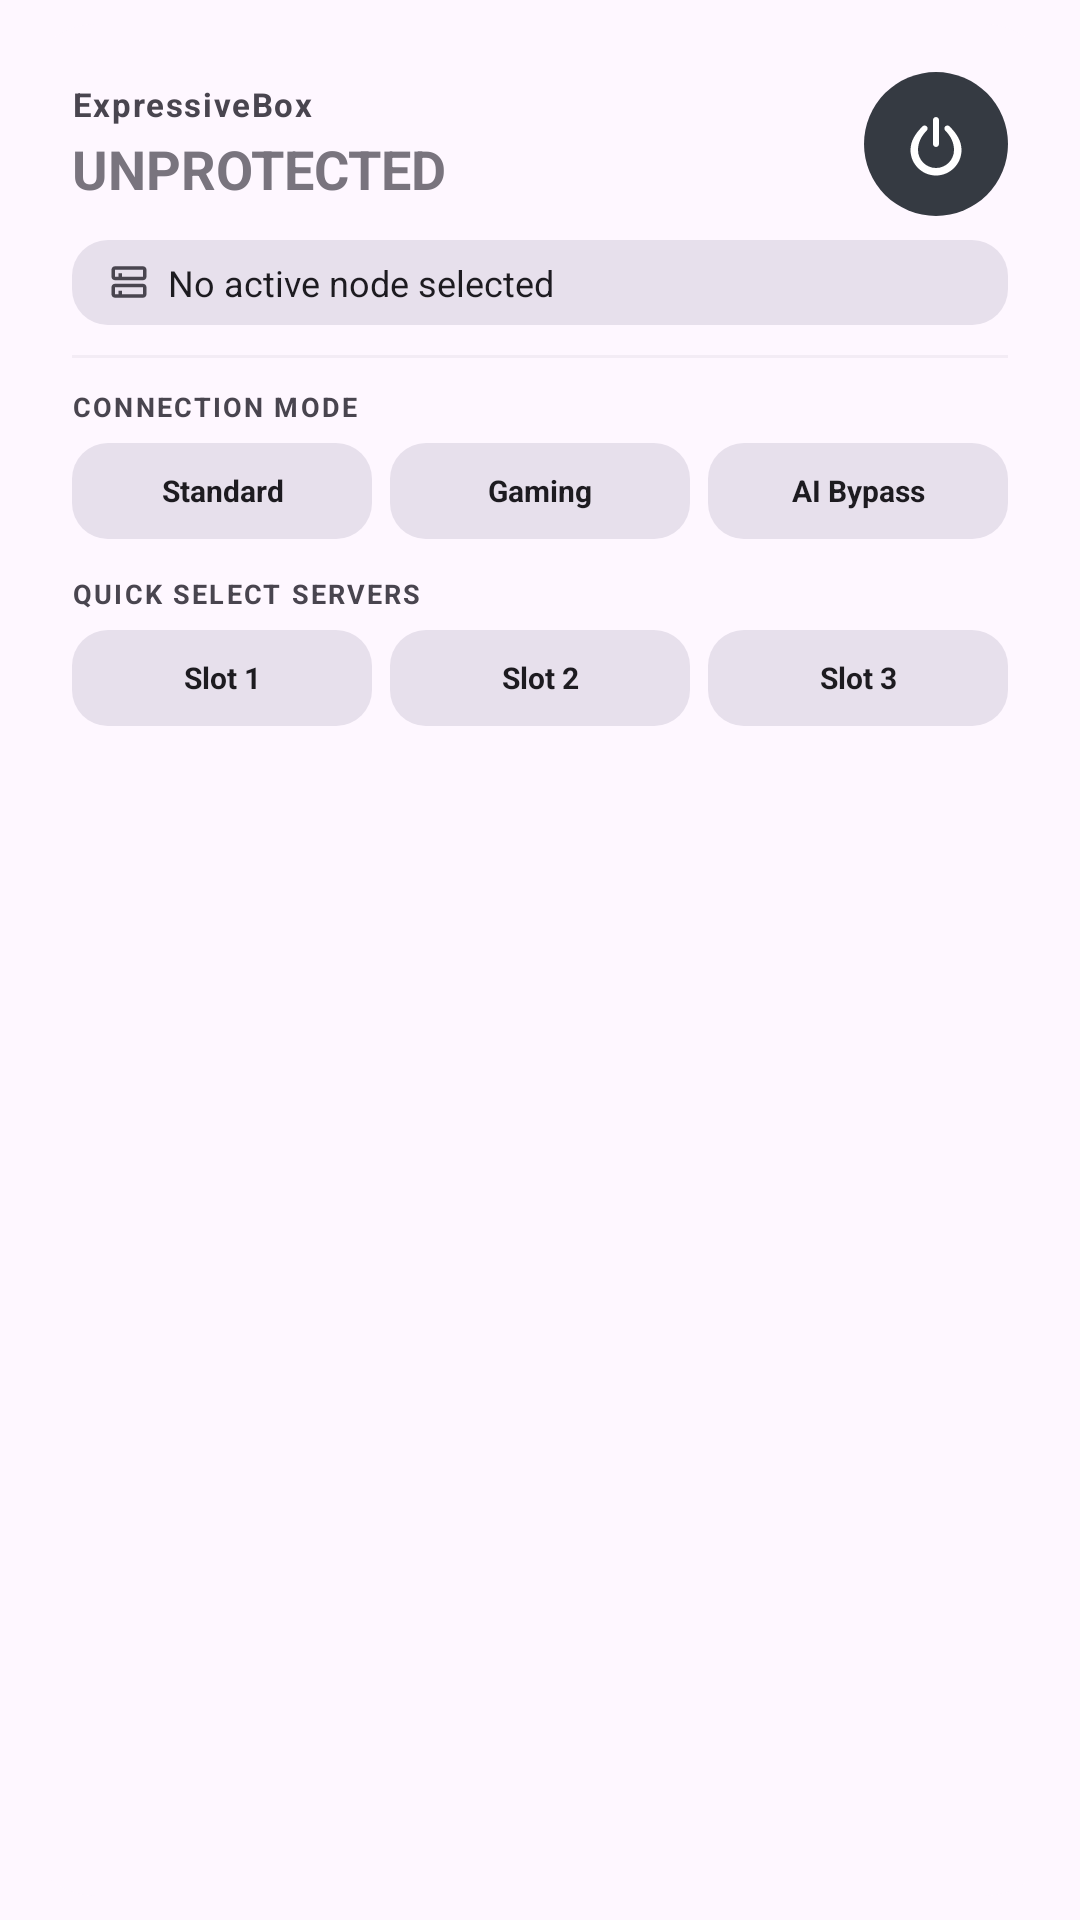

Named icons in this screenshot (1080*1920) and their bounding boxes, (x1, y1, x2, y2):
Toggle Connection: (864, 72, 1008, 216)
